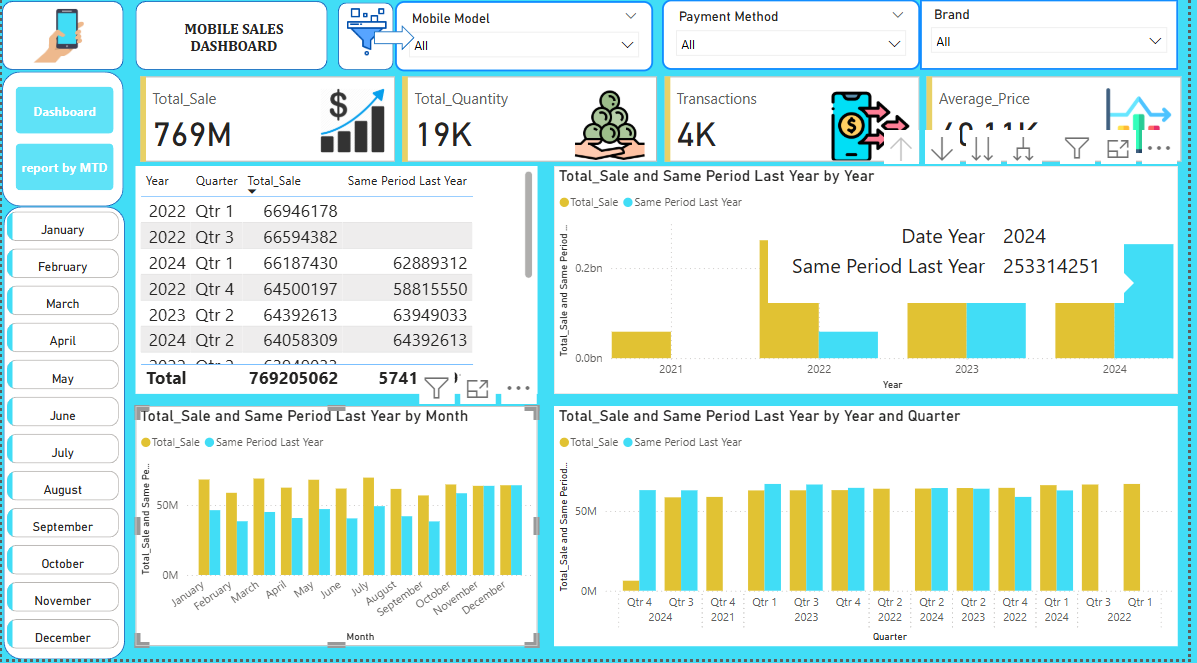

This screenshot's page, from the dashboard's own definition file:
{"tool":"powerbi","page":{"name":"Same Period Last Year DAX","canvas":[1280,720],"ordinal":2},"visuals":[{"type":"shape","box":[0,9.7,131.2,74.5],"z":0},{"type":"shape","box":[0,85.8,131.2,145.7],"z":1000},{"type":"shape","box":[1.6,231.5,131.2,489],"z":2000},{"type":"advancedSlicerVisual","fields":{"Values":["Cutom_Calender.Date.Variation.Date Hierarchy.Month"]},"box":[0,231.5,131.2,489],"z":3000},{"type":"cardVisual","fields":{"Data":["Sales_Data.Total_Sale","Sales_Data.Total_Quantity","Sales_Data.Transactions","Sales_Data.Average_Price"]},"box":[144.1,85.8,1136.7,102],"z":4000},{"type":"slicer","fields":{"Values":["Sales_Data.Mobile Model"]},"box":[424.2,9.7,278.5,76.1],"z":5000},{"type":"slicer","fields":{"Values":["Sales_Data.Payment Method"]},"box":[712.5,8.1,278.5,76.1],"z":6000},{"type":"slicer","fields":{"Values":["Sales_Data.Brand"]},"box":[991,8.1,278.5,76.1],"z":7000},{"type":"shape","box":[144.1,9.7,207.3,74.5],"z":8000},{"type":"shape","box":[362.7,11.3,59.9,72.9],"z":9000},{"type":"textbox","box":[161.9,24.3,176.5,50.2],"z":10000},{"type":"image","box":[268.8,11.3,249.4,63.1],"z":11000},{"type":"shape","box":[401.6,35.6,43.7,27.5],"z":12000},{"type":"image","box":[1.6,13,118.2,74.5],"z":13000},{"type":"tableEx","fields":{"Values":["Cutom_Calender.Date.Variation.Date Hierarchy.Year","Cutom_Calender.Date.Variation.Date Hierarchy.Quarter","Sales_Data.Total_Sale","Sales_Data.Same Period Last Year"]},"box":[144.1,187.8,434,246.1],"z":14000},{"type":"clusteredColumnChart","fields":{"Category":["Cutom_Calender.Date.Variation.Date Hierarchy.Year","Cutom_Calender.Date.Variation.Date Hierarchy.Quarter"],"Y":["Sales_Data.Total_Sale","Sales_Data.Same Period Last Year"]},"box":[595.9,187.8,673.6,246.1],"z":15000},{"type":"clusteredColumnChart","fields":{"Category":["Cutom_Calender.Date.Variation.Date Hierarchy.Month"],"Y":["Sales_Data.Total_Sale","Sales_Data.Same Period Last Year"]},"box":[144.1,446.9,434,259.1],"z":16000},{"type":"clusteredColumnChart","fields":{"Category":["Cutom_Calender.Date.Variation.Date Hierarchy.Year","Cutom_Calender.Date.Variation.Date Hierarchy.Quarter"],"Y":["Sales_Data.Total_Sale","Sales_Data.Same Period Last Year"]},"box":[595.9,446.9,673.6,259.1],"z":17000},{"type":"pageNavigator","box":[14.6,102,106.9,113.3],"z":18000}]}

Visuals, with their boxes in screenshot pixels (x1, y1, x2, y2), scaled from the page's 1280x720 canvas onto the 1197x663 screenshot:
shape: <region>0, 9, 123, 78</region>
shape: <region>0, 79, 123, 213</region>
shape: <region>1, 213, 124, 662</region>
advancedSlicerVisual - Cutom_Calender.Date.Variation.Date Hierarchy.Month: <region>0, 213, 123, 662</region>
cardVisual - Sales_Data.Total_Sale x Sales_Data.Total_Quantity: <region>135, 79, 1196, 173</region>
slicer - Sales_Data.Mobile Model: <region>397, 9, 657, 79</region>
slicer - Sales_Data.Payment Method: <region>666, 7, 927, 78</region>
slicer - Sales_Data.Brand: <region>927, 7, 1187, 78</region>
shape: <region>135, 9, 329, 78</region>
shape: <region>339, 10, 395, 78</region>
textbox: <region>151, 22, 316, 69</region>
image: <region>251, 10, 485, 69</region>
shape: <region>376, 33, 416, 58</region>
image: <region>1, 12, 112, 81</region>
tableEx - Cutom_Calender.Date.Variation.Date Hierarchy.Year x Cutom_Calender.Date.Variation.Date Hierarchy.Quarter: <region>135, 173, 541, 400</region>
clusteredColumnChart - Cutom_Calender.Date.Variation.Date Hierarchy.Year x Cutom_Calender.Date.Variation.Date Hierarchy.Quarter: <region>557, 173, 1187, 400</region>
clusteredColumnChart - Cutom_Calender.Date.Variation.Date Hierarchy.Month x Sales_Data.Total_Sale: <region>135, 412, 541, 650</region>
clusteredColumnChart - Cutom_Calender.Date.Variation.Date Hierarchy.Year x Cutom_Calender.Date.Variation.Date Hierarchy.Quarter: <region>557, 412, 1187, 650</region>
pageNavigator: <region>14, 94, 114, 198</region>
